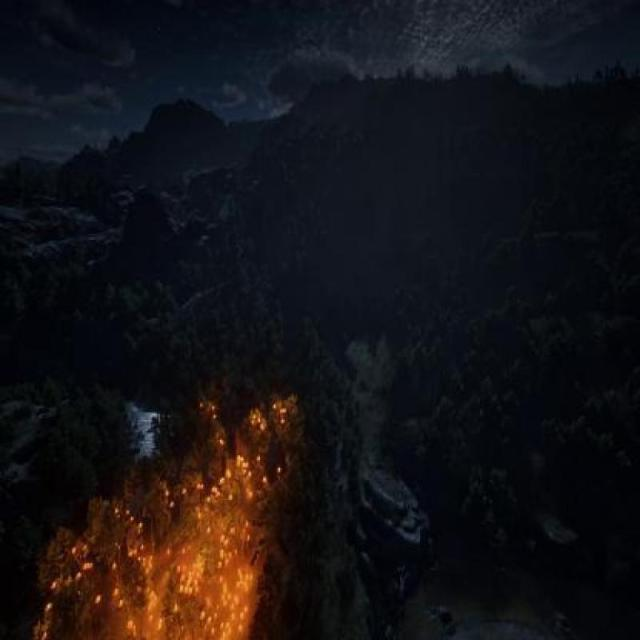Fire: (100, 492, 257, 640), (184, 376, 302, 492), (38, 518, 100, 640)
